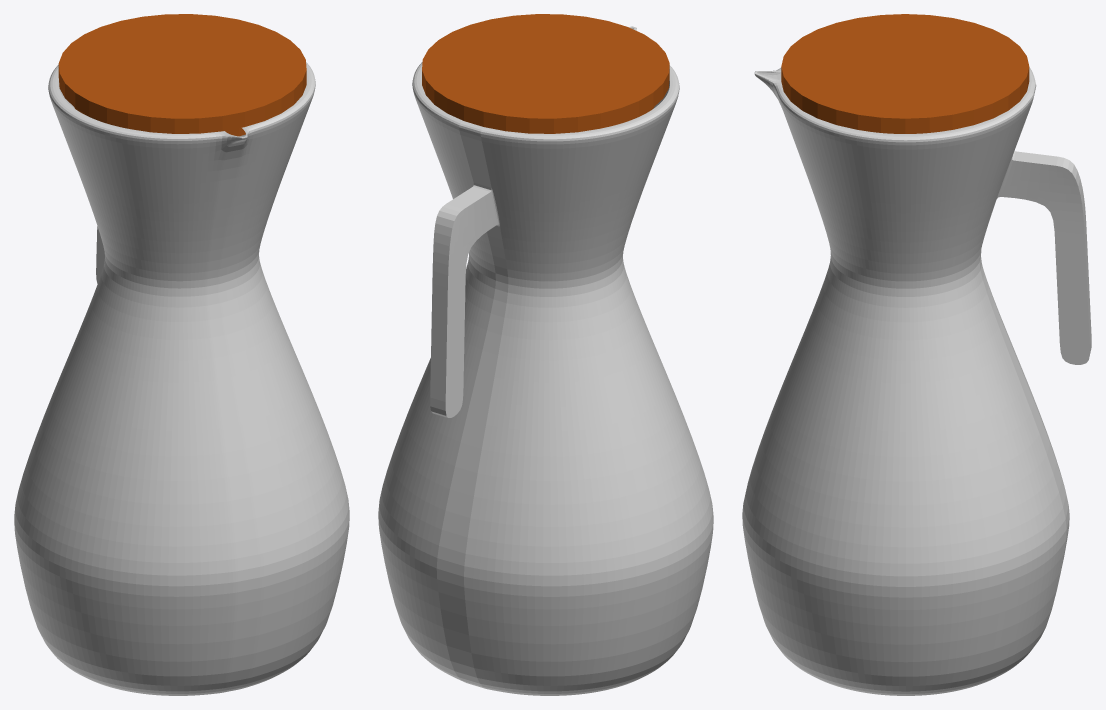
The model's file is Water bottle.fbx.
The picture shows the model from 3 angles, left to right: view 1: azimuth 30°, elevation 25°; view 2: azimuth 150°, elevation 25°; view 3: azimuth 270°, elevation 25°; orthographic projection.
Parts seen in each view (by area): view 1: Bottle, Cylinder; view 2: Bottle, Cylinder; view 3: Bottle, Cylinder.
Part boxes in pixels (<box>): Bottle: <box>14,62,349,695</box>; Cylinder: <box>58,14,306,136</box>; Bottle: <box>378,26,713,695</box>; Cylinder: <box>422,14,669,133</box>; Bottle: <box>742,67,1091,695</box>; Cylinder: <box>781,14,1029,133</box>.
Bounding box in the file's own units: 286 × 541 × 296.
